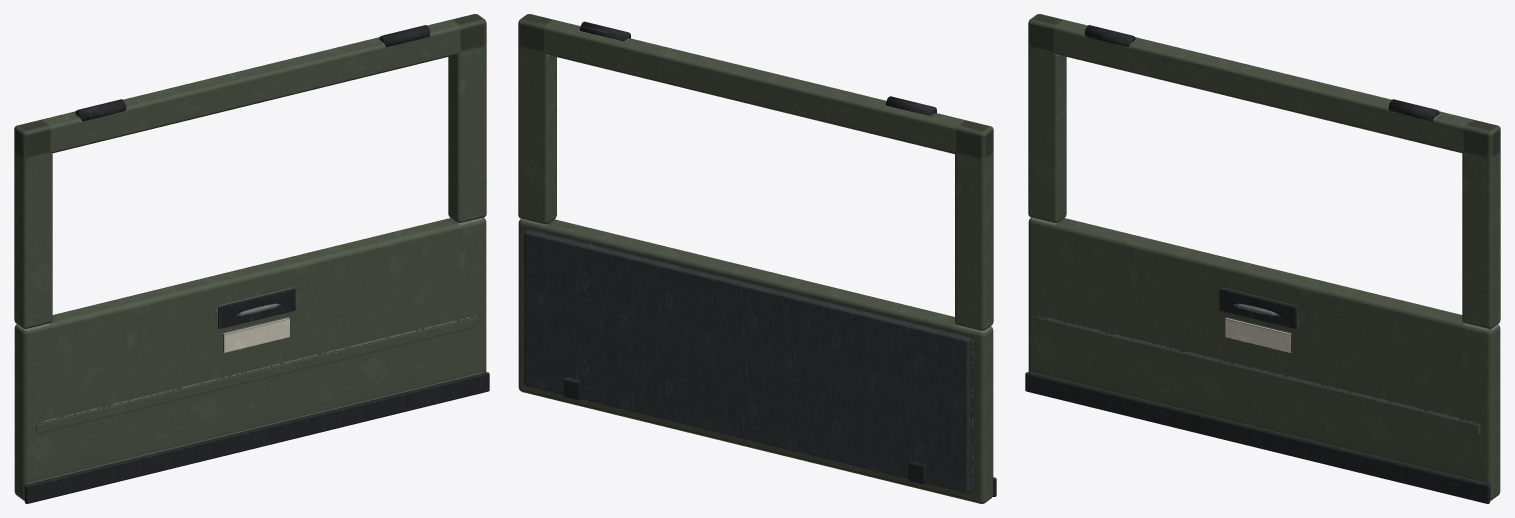
File: mule_hatch.glb
The picture shows the model from 3 angles, left to right: view 1: azimuth 30°, elevation 25°; view 2: azimuth 150°, elevation 25°; view 3: azimuth 330°, elevation 25°; orthographic projection.
Visible parts, largest first — view 1: mule_hatch; view 2: mule_hatch; view 3: mule_hatch.
Part boxes in pixels (x1,y1,x2,y2): mule_hatch: (14,14,489,503); mule_hatch: (518,14,996,503); mule_hatch: (1025,14,1500,503).
Size of the model in its own units: 1.68 by 1.3 by 0.1327.
1 material, 1 textured.
